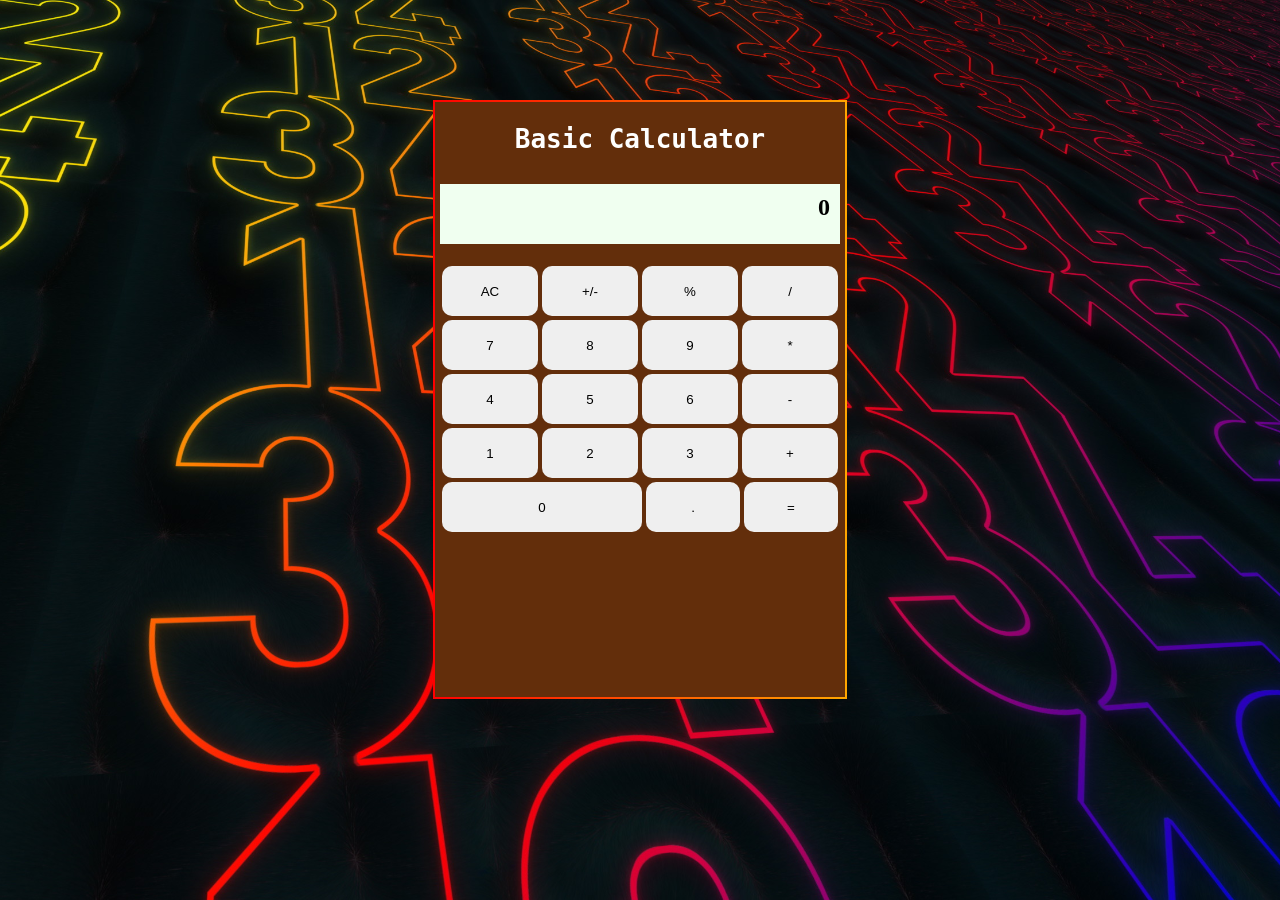
it: Calculator methods › test to subtract numbers
Click the button "6" at point(690, 399), box [642, 374, 738, 424]
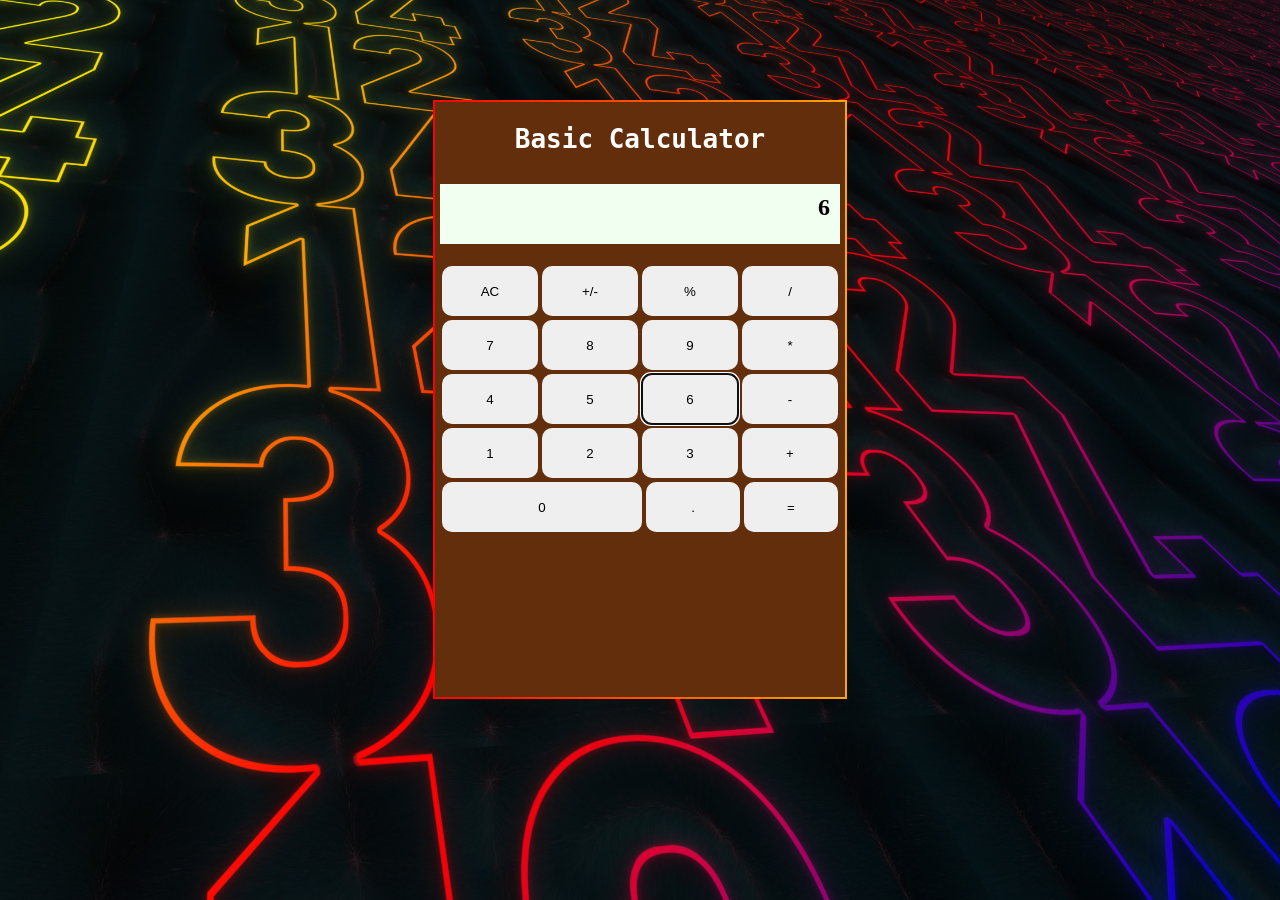
Click the button "8" at point(590, 345), box [542, 320, 638, 370]
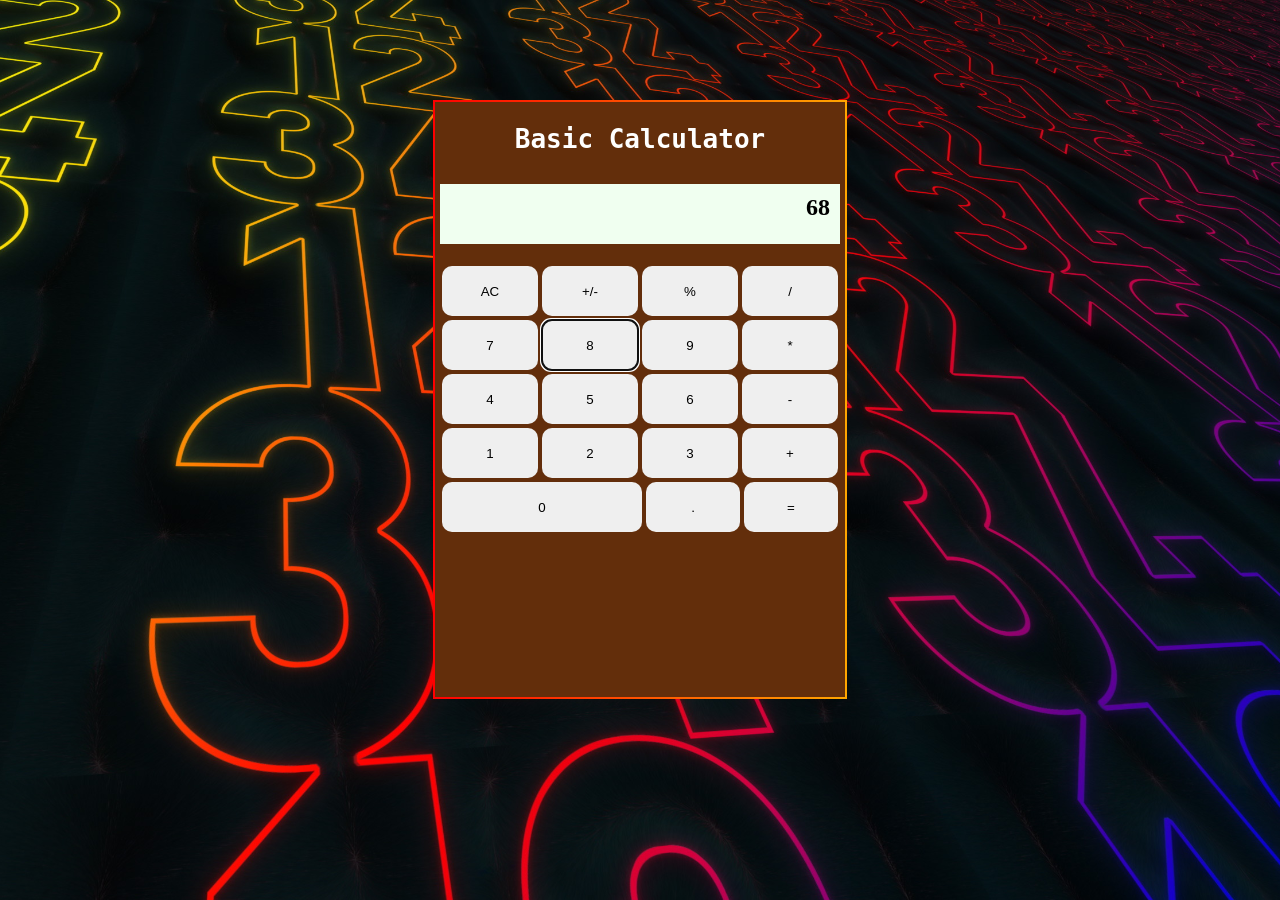
Click the button "-" at point(790, 399), box [742, 374, 838, 424]
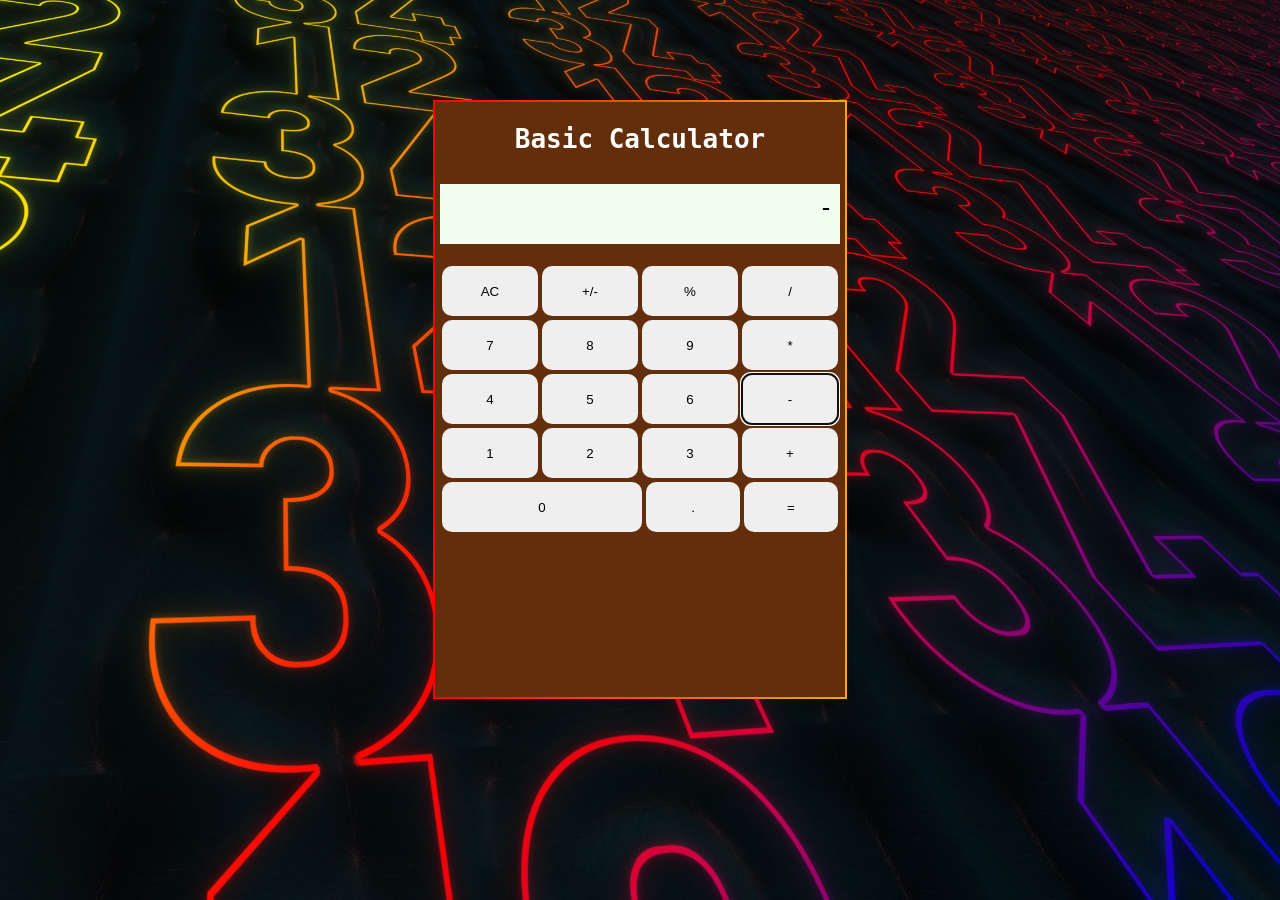
Click the button "6" at point(690, 399), box [642, 374, 738, 424]
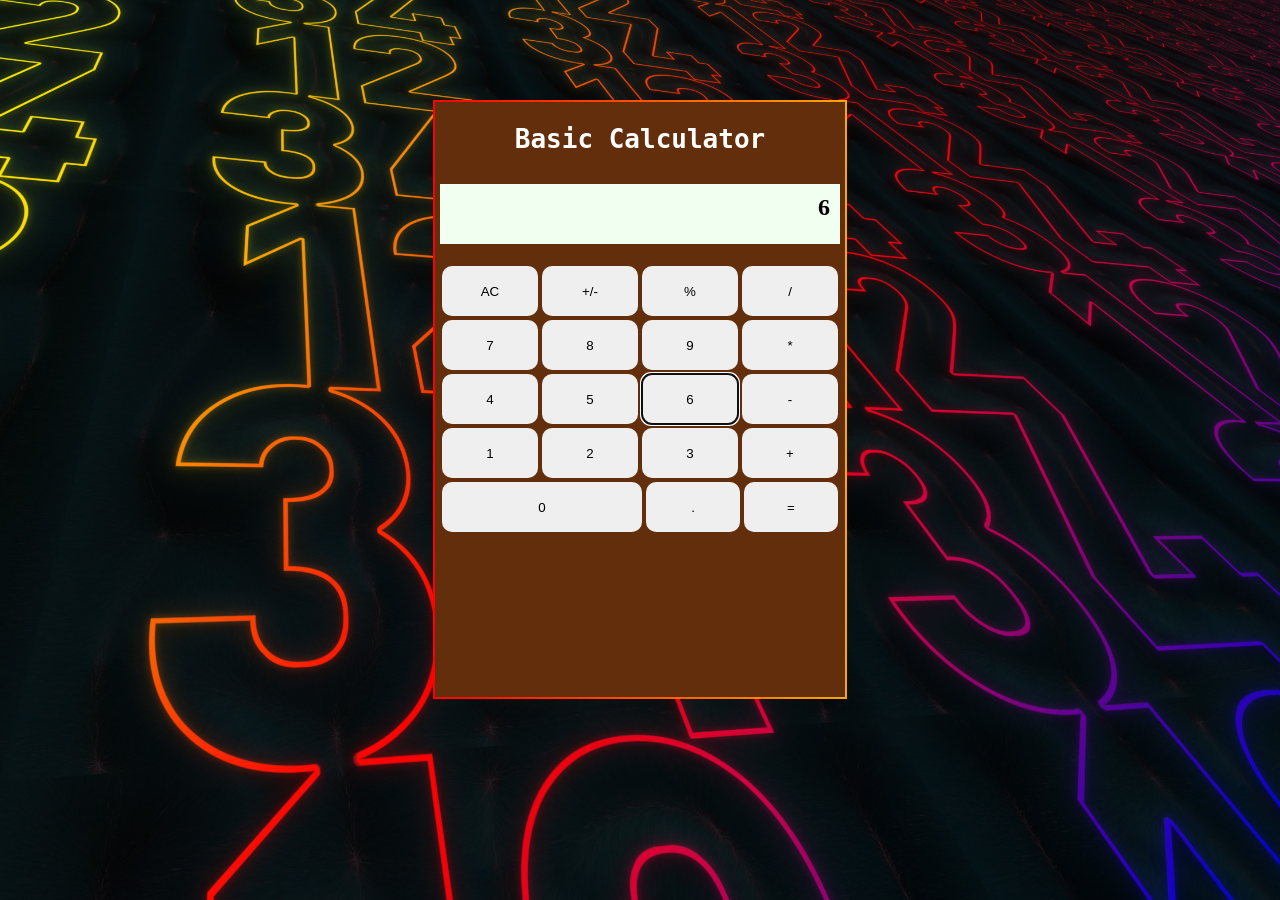
Click the button "=" at point(791, 507), box [744, 482, 838, 532]
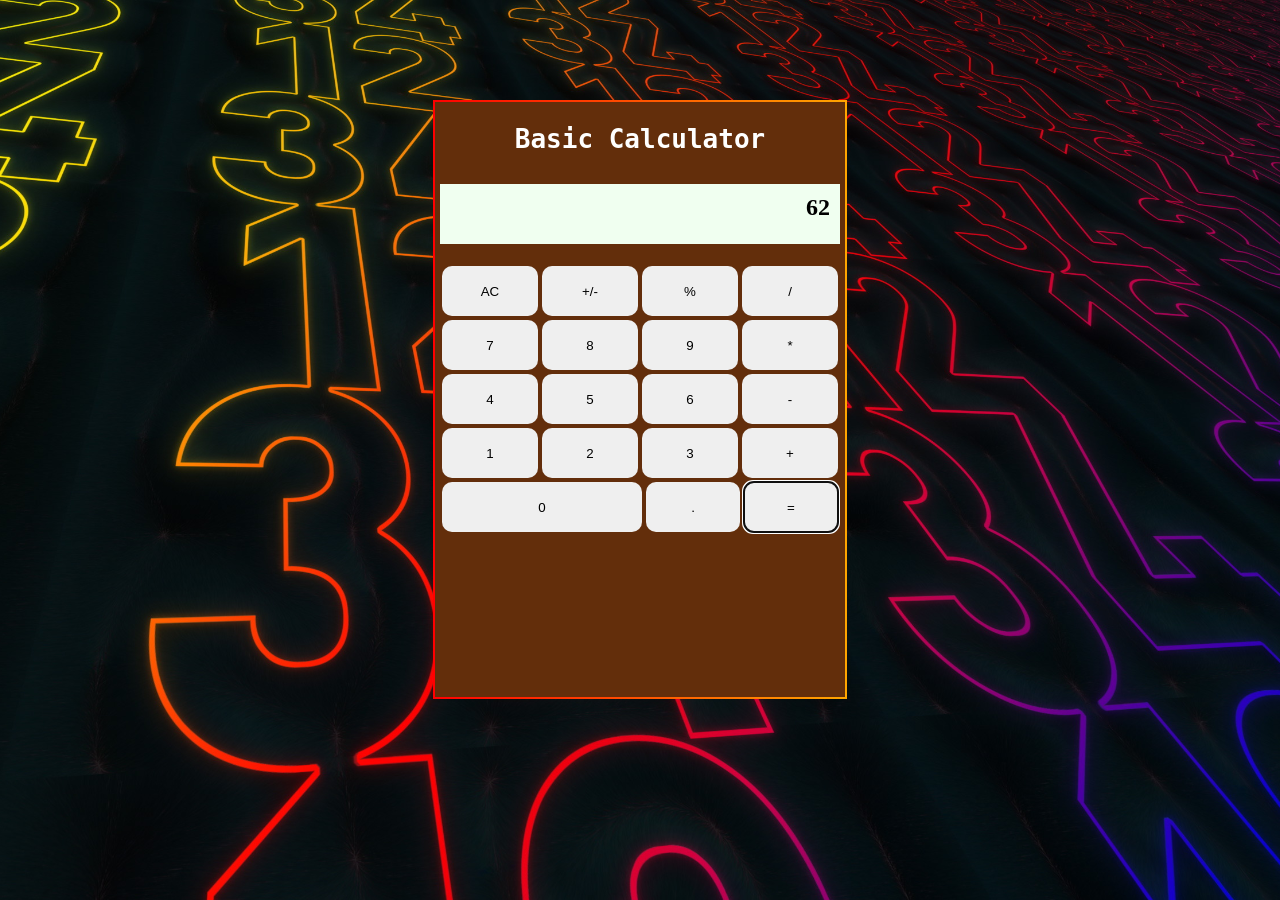
Now the heading "62" is shown, box [440, 184, 840, 244]
